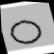no answer: (2, 14, 48, 50)
